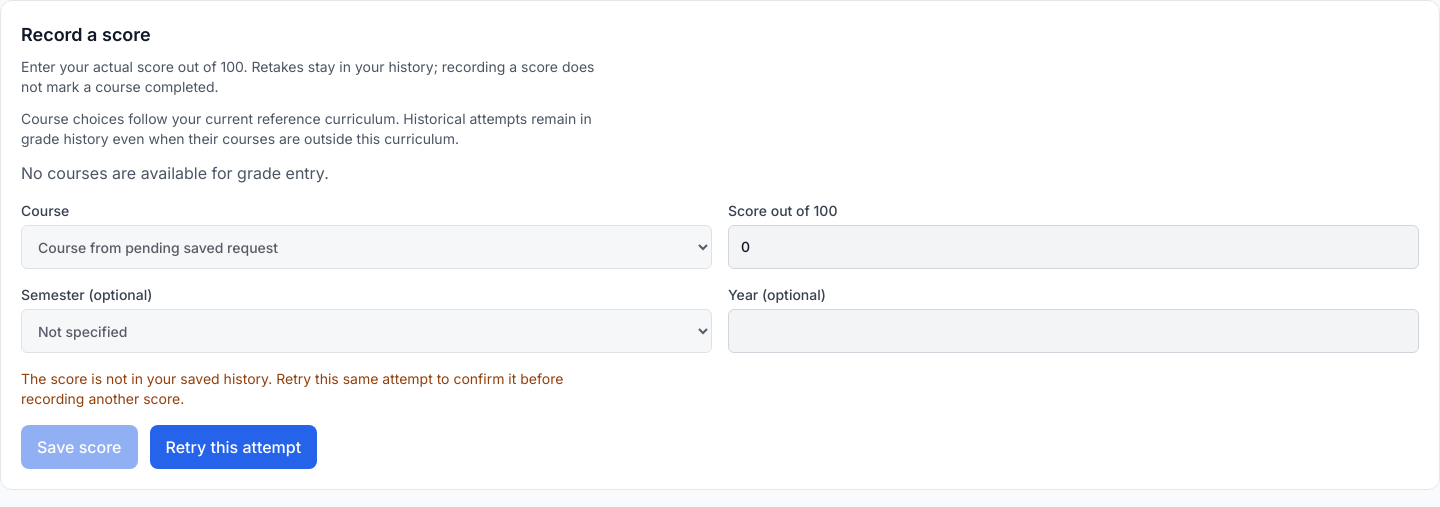
Test: numeric grade entry › retains an uncommitted old request for exact-key retry outside new choices
This screenshot has width=1440, height=507.
Check: the button "Save score" is disabled, box x1=21 y1=425 x2=138 y2=469
Click the button "Retry this attempt". click: (233, 447)
box: x1=150 y1=425 x2=317 y2=469
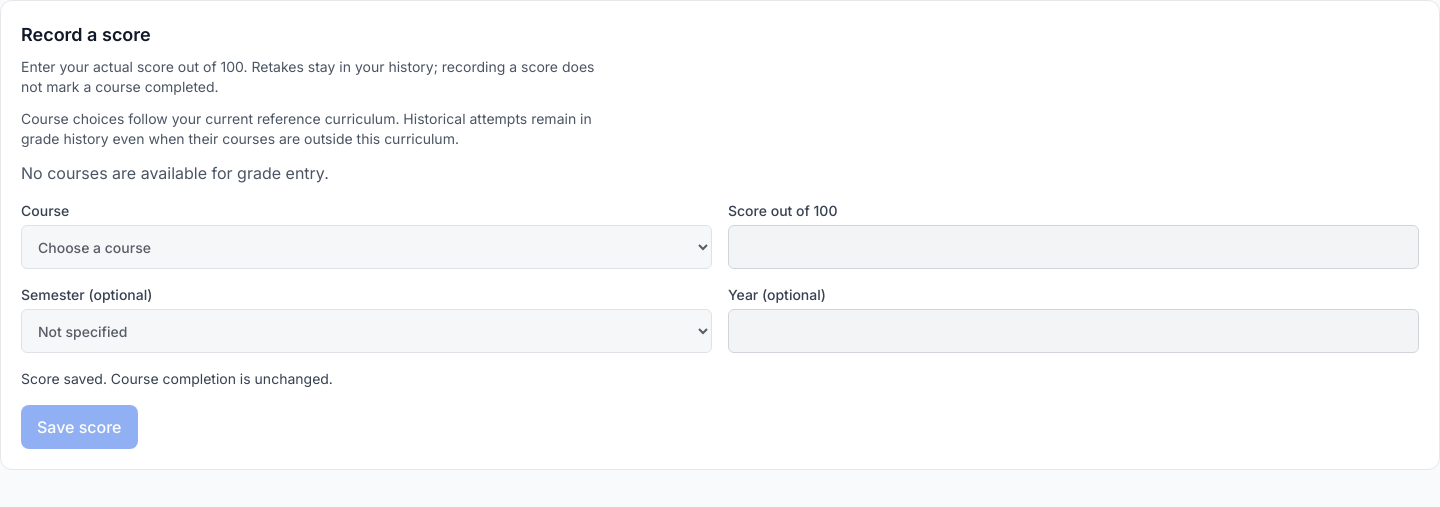
Check: the text "Score saved. Course completion is unchanged." is shown, box x1=21 y1=370 x2=333 y2=387
